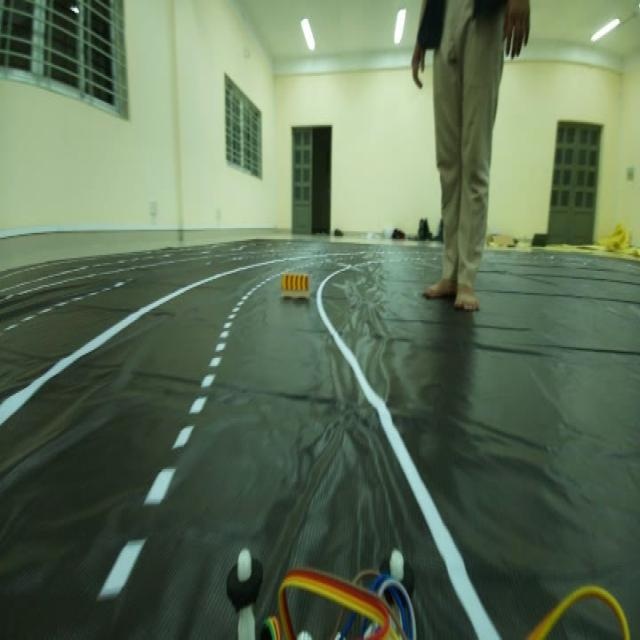roadblock: (276, 260, 313, 306)
